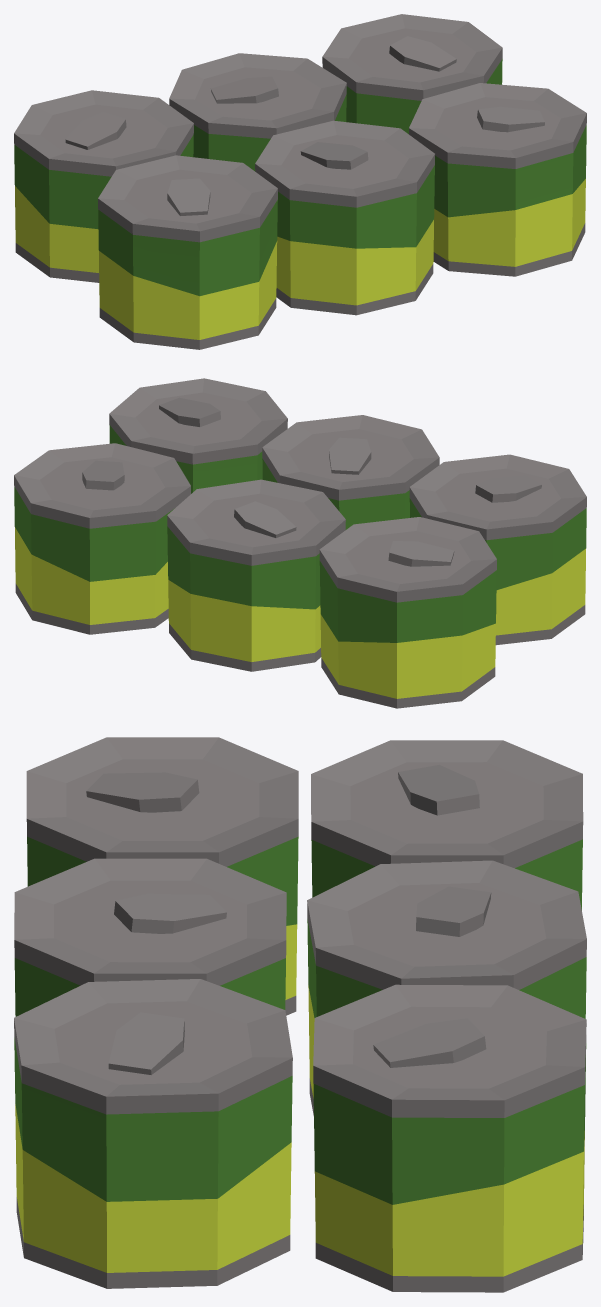
Rendered from food_can-pack-small.fbx.
3 renders of one model, top to bottom at view 1: azimuth 30°, elevation 25°; view 2: azimuth 150°, elevation 25°; view 3: azimuth 270°, elevation 25°, orthographic. The views are drawn at different scales.
Visible parts, largest first — view 1: food_can_pack_small; view 2: food_can_pack_small; view 3: food_can_pack_small.
Part boxes in pixels (left/top/right/bottom): food_can_pack_small: left=14, top=14, right=586, bottom=349; food_can_pack_small: left=14, top=378, right=586, bottom=708; food_can_pack_small: left=14, top=737, right=586, bottom=1292.
Bounding box in the file's own units: 200 × 52.5 × 133.
